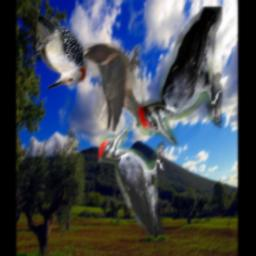Swallow: (83, 43, 147, 131)
Woodpecker: (138, 7, 221, 146), (98, 127, 164, 236), (33, 18, 87, 89)
